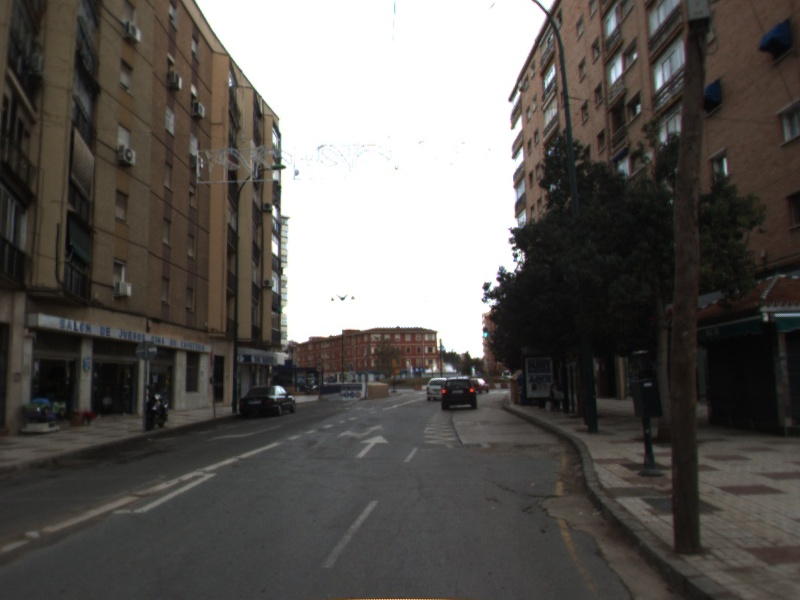STRAIGHT: (352, 432, 390, 460)
STRAIGHT_LEFT: (333, 423, 387, 441)
